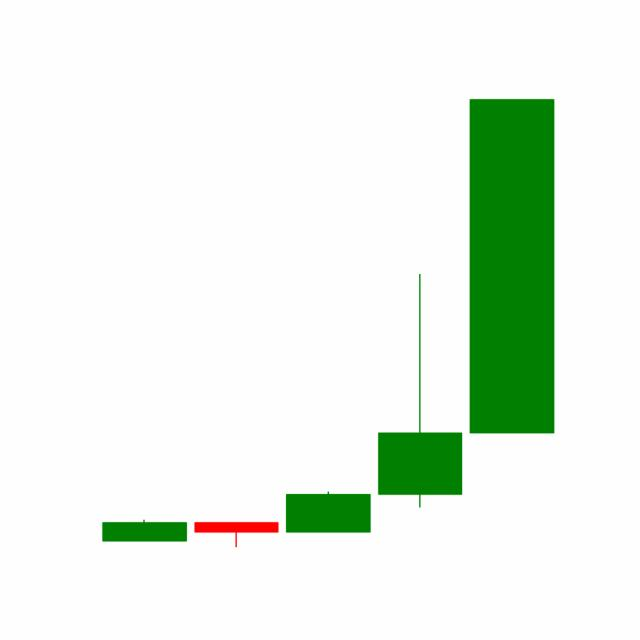Marubozu: (464, 95, 558, 437)
